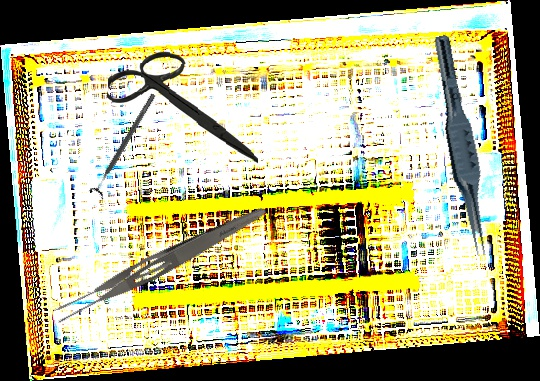Dressing Forceps: (49, 196, 271, 329)
Fixation Ring: (87, 89, 162, 201)
Iris Scissors: (105, 49, 262, 165)
Tissue Forceps: (420, 33, 501, 259)
